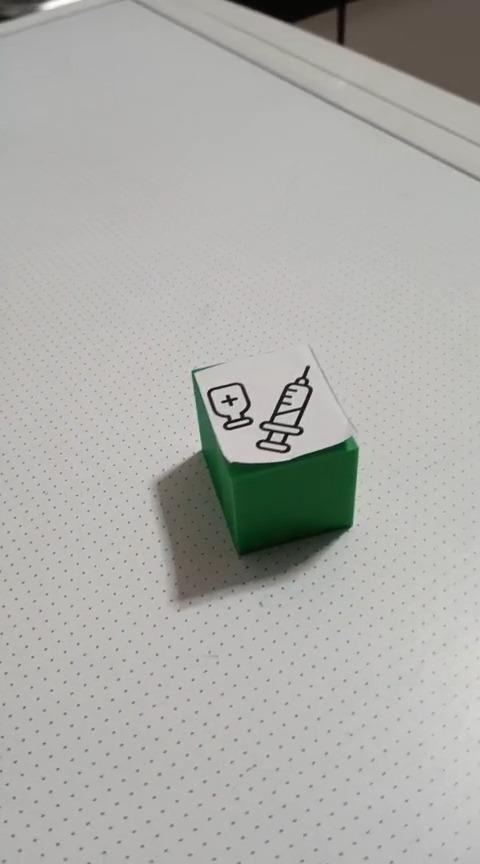antiseptic cream: (189, 341, 360, 556)
